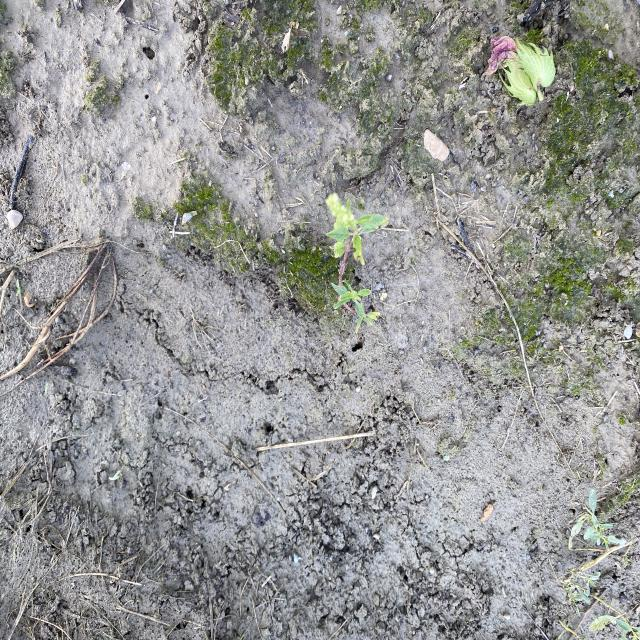Waterhemp: (324, 191, 391, 332)
